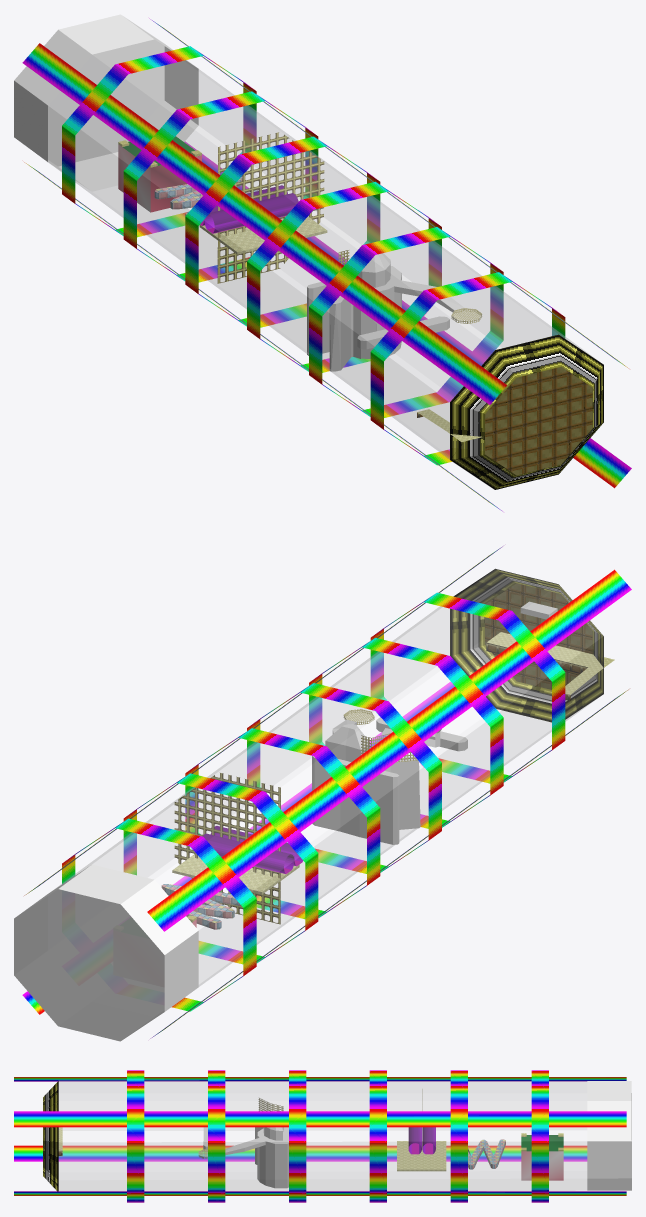
File: RainbowTunnel.dae
The picture shows the model from 3 angles, top to bottom: view 1: azimuth 30°, elevation 25°; view 2: azimuth 150°, elevation 25°; view 3: azimuth 270°, elevation 25°; orthographic projection. The views are drawn at different scales.
Parts seen in each view (by area): view 1: r0; view 2: r0; view 3: r0.
Boxes of the visible parts, <box> form: r0: <box>14,14,631,511</box>; r0: <box>14,546,631,1041</box>; r0: <box>14,1070,631,1202</box>.
Bounding box in the file's own units: 3.85 × 17.31 × 3.35.
